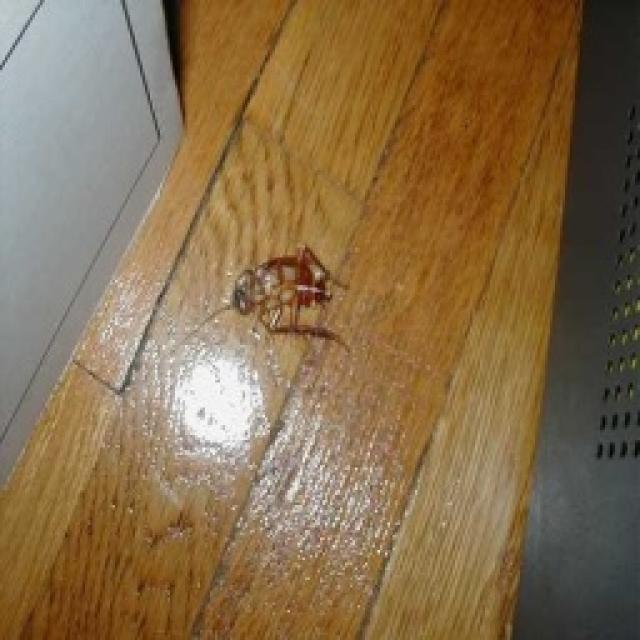cockroach: (227, 239, 351, 348)
